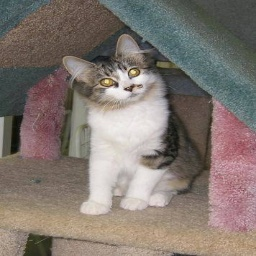cat: (60, 28, 212, 235)
